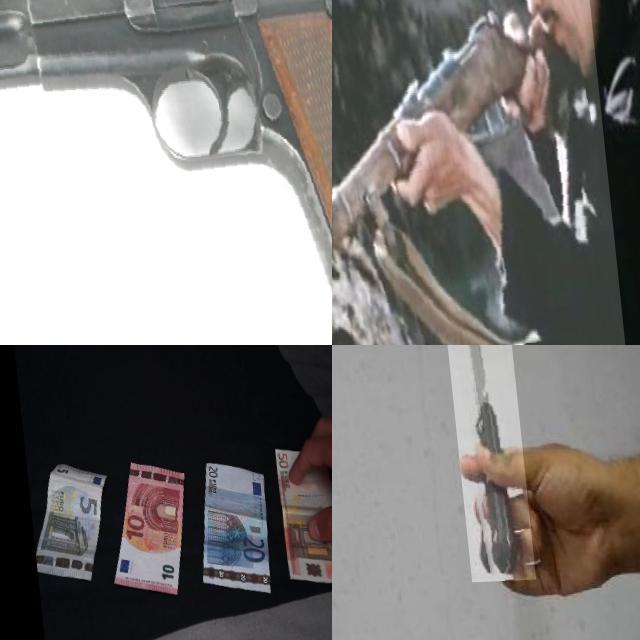-: (440, 345, 529, 585)
gun-knife-thesis - v11 Yolov5 augmented: (0, 0, 332, 345), (332, 0, 613, 345)
